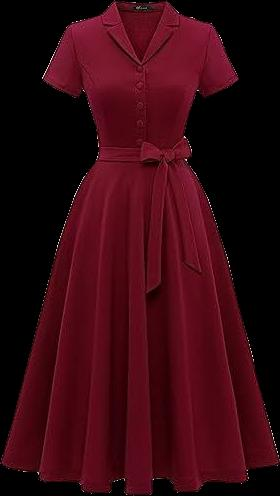Bodice: (68, 0, 212, 151)
Hemline: (0, 456, 279, 495)
Neckline: (112, 1, 168, 64)
Skirt: (1, 149, 279, 494)
Sleeve: (198, 28, 238, 97), (43, 27, 81, 96)
Sleeveline: (195, 25, 215, 91), (67, 25, 84, 85)
Waistline: (97, 143, 183, 155)
